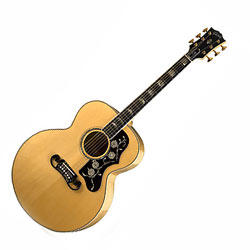guitar: (10, 25, 226, 233)
